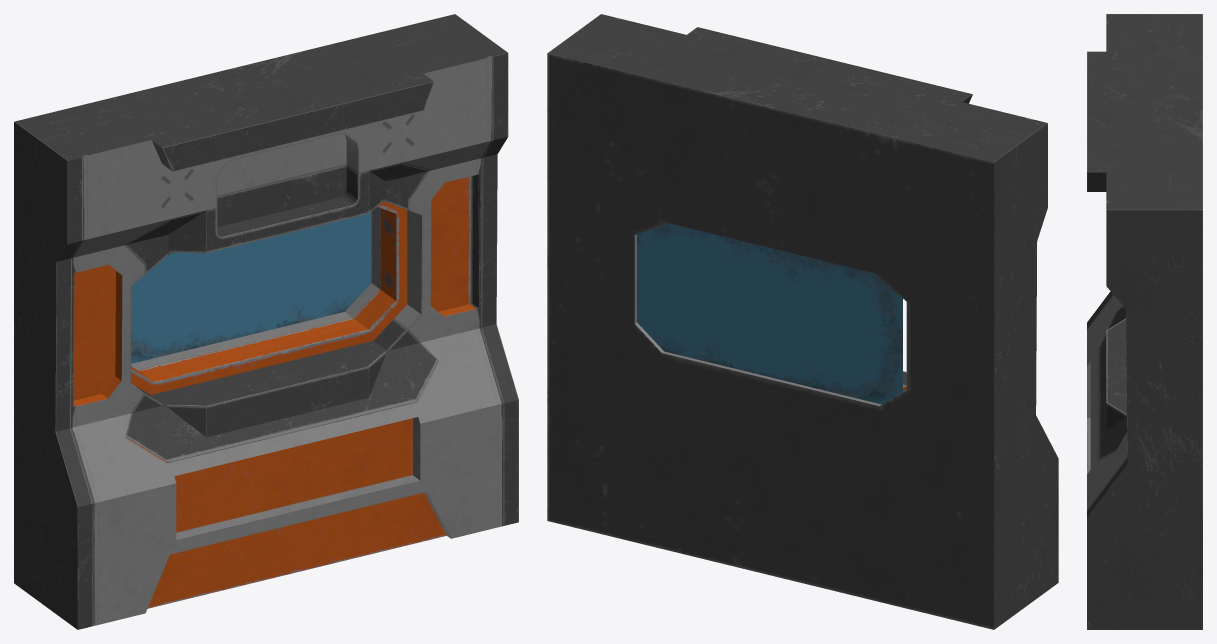
The model's file is tile_wall2.FBX.
3 views of the same model, side by side, from view 1: azimuth 30°, elevation 25°; view 2: azimuth 150°, elevation 25°; view 3: azimuth 270°, elevation 25° (orthographic). The views are drawn at different scales.
Parts seen in each view (by area): view 1: tile_wall2, tile_wall2_Glass; view 2: tile_wall2, tile_wall2_Glass; view 3: tile_wall2.
Part boxes in pixels (left/top/right/bottom): tile_wall2: left=14, top=14, right=518, bottom=629; tile_wall2_Glass: left=131, top=212, right=371, bottom=363; tile_wall2: left=547, top=14, right=1058, bottom=629; tile_wall2_Glass: left=637, top=223, right=902, bottom=404; tile_wall2: left=1087, top=14, right=1202, bottom=629.
Bounding box in the file's own units: 200 × 200 × 50.
2 materials, 2 textured.
